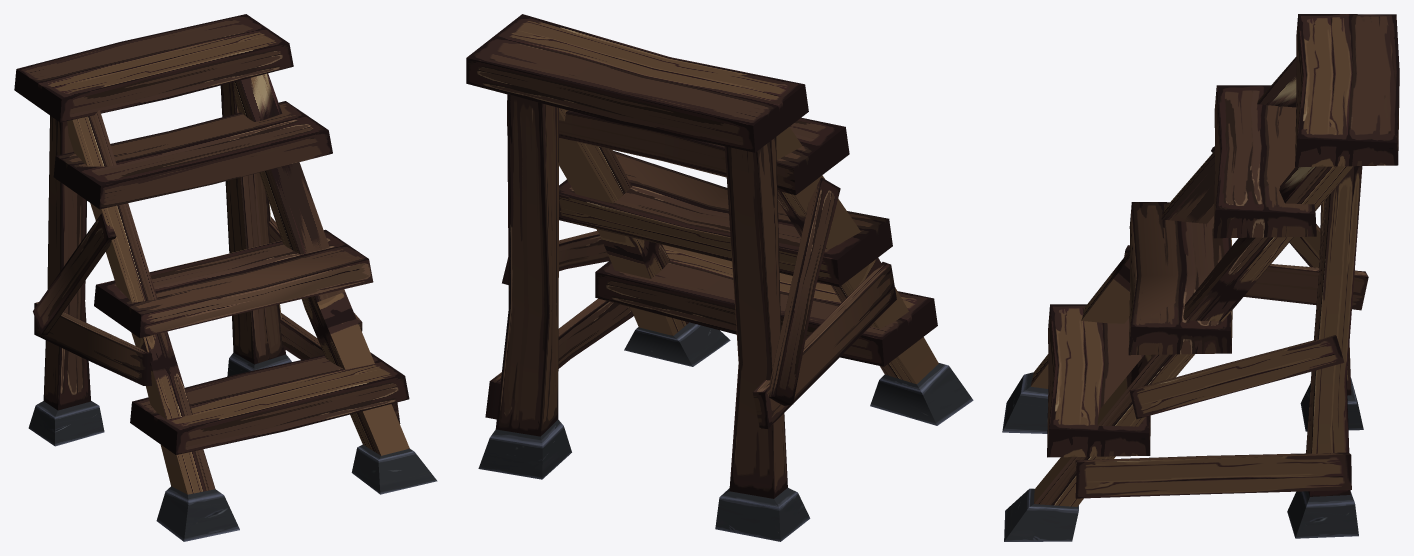
File: SM_PROP_ladder_dungeon_03.fbx
The picture shows the model from 3 angles, left to right: view 1: azimuth 30°, elevation 25°; view 2: azimuth 150°, elevation 25°; view 3: azimuth 270°, elevation 25°; orthographic projection. The views are drawn at different scales.
Visible parts, largest first — view 1: SM_PROP_ladder_dungeon_03; view 2: SM_PROP_ladder_dungeon_03; view 3: SM_PROP_ladder_dungeon_03.
Part boxes in pixels (x1,y1,x2,y2): SM_PROP_ladder_dungeon_03: [14, 14, 437, 541]; SM_PROP_ladder_dungeon_03: [466, 14, 973, 541]; SM_PROP_ladder_dungeon_03: [1002, 14, 1399, 541].
Size of the model in its own units: 75.1 by 98.66 by 90.42.
